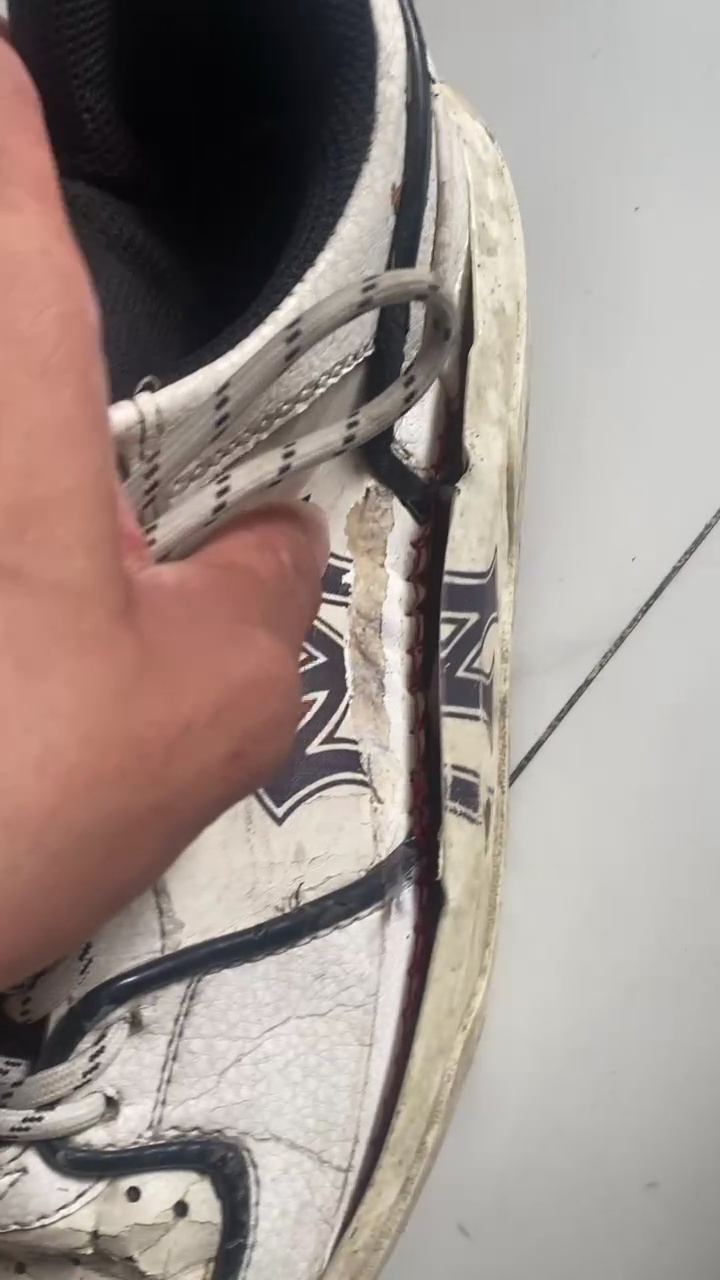bonding: (371, 372, 477, 699), (368, 706, 455, 1069)
